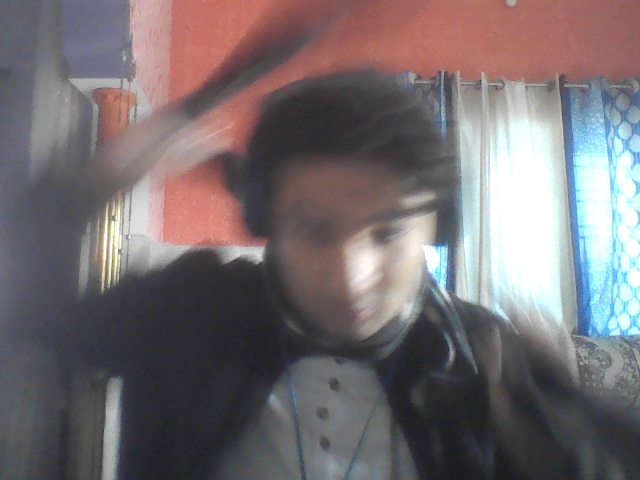real: (253, 84, 448, 361)
